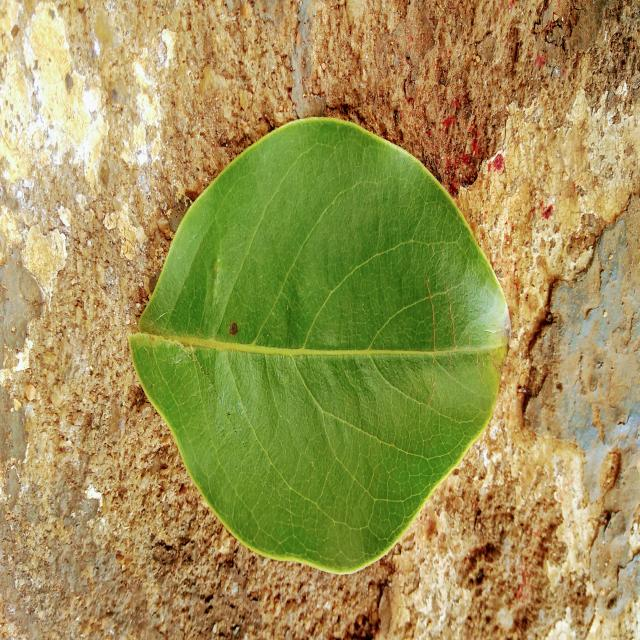sampige: (129, 118, 509, 573)
